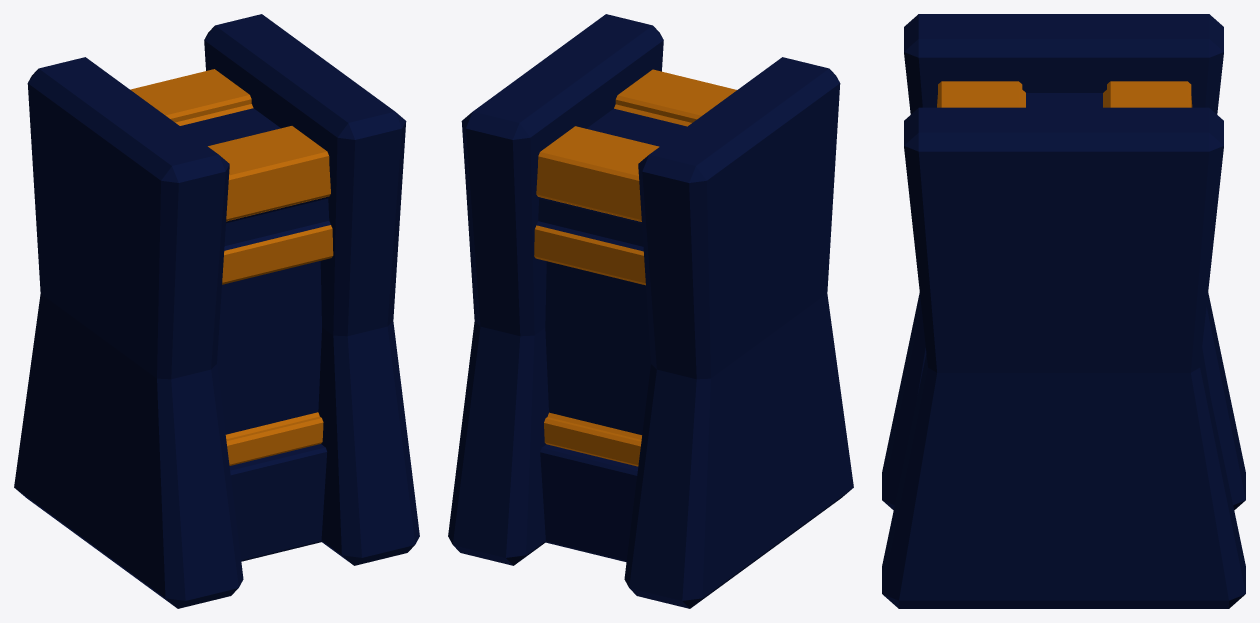
File: CornerOutLineWall.fbx
The picture shows the model from 3 angles, left to right: view 1: azimuth 30°, elevation 25°; view 2: azimuth 150°, elevation 25°; view 3: azimuth 270°, elevation 25°; orthographic projection. The views are drawn at different scales.
Parts seen in each view (by area): view 1: CornerOutLineWall.002; view 2: CornerOutLineWall.002; view 3: CornerOutLineWall.002.
Part boxes in pixels (box(x1,y1,x2,y2)): CornerOutLineWall.002: box(14, 14, 419, 608); CornerOutLineWall.002: box(448, 14, 853, 608); CornerOutLineWall.002: box(882, 14, 1245, 608).
Bounding box in the file's own units: 312 × 510 × 354.
